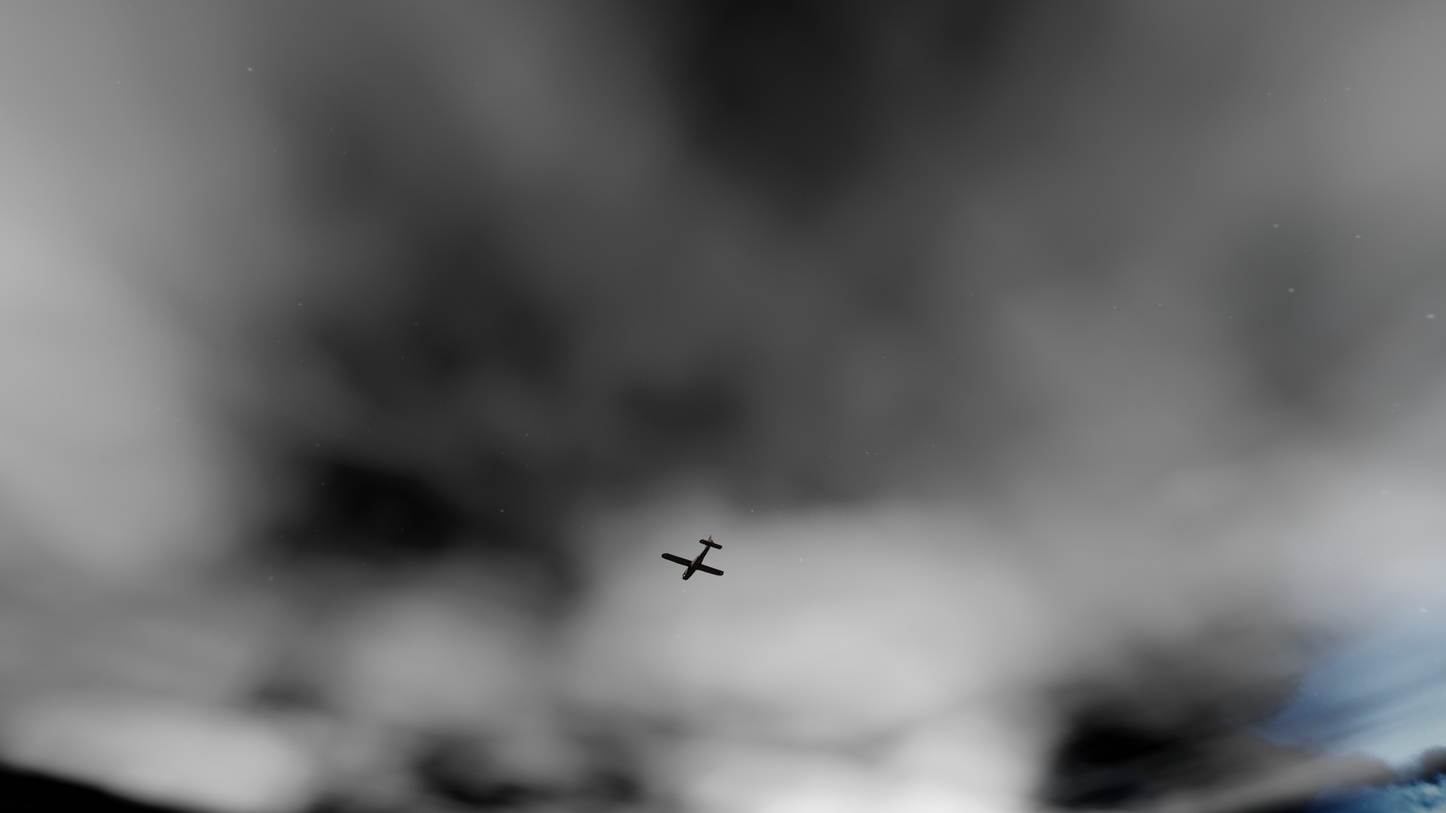drone_other: (661, 534, 724, 580)
